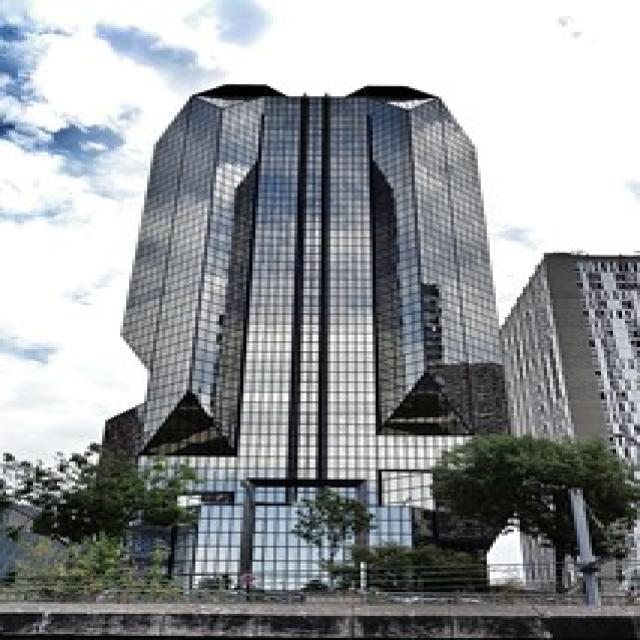building: (80, 73, 527, 599)
